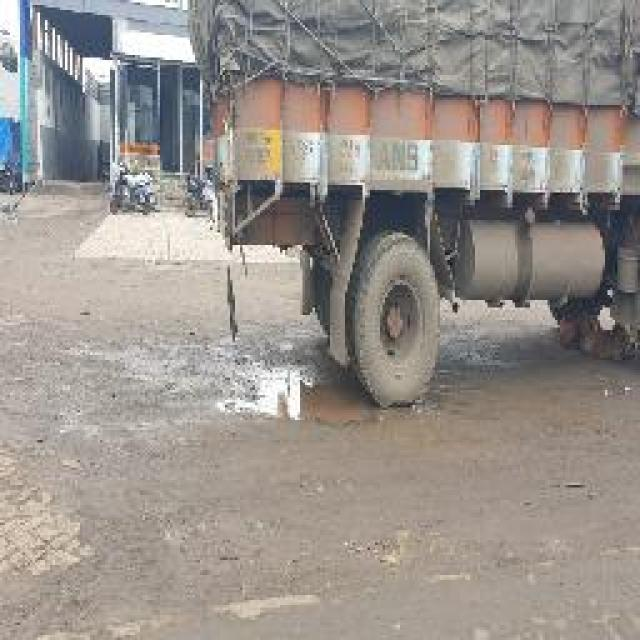stagnation: (204, 370, 328, 437)
